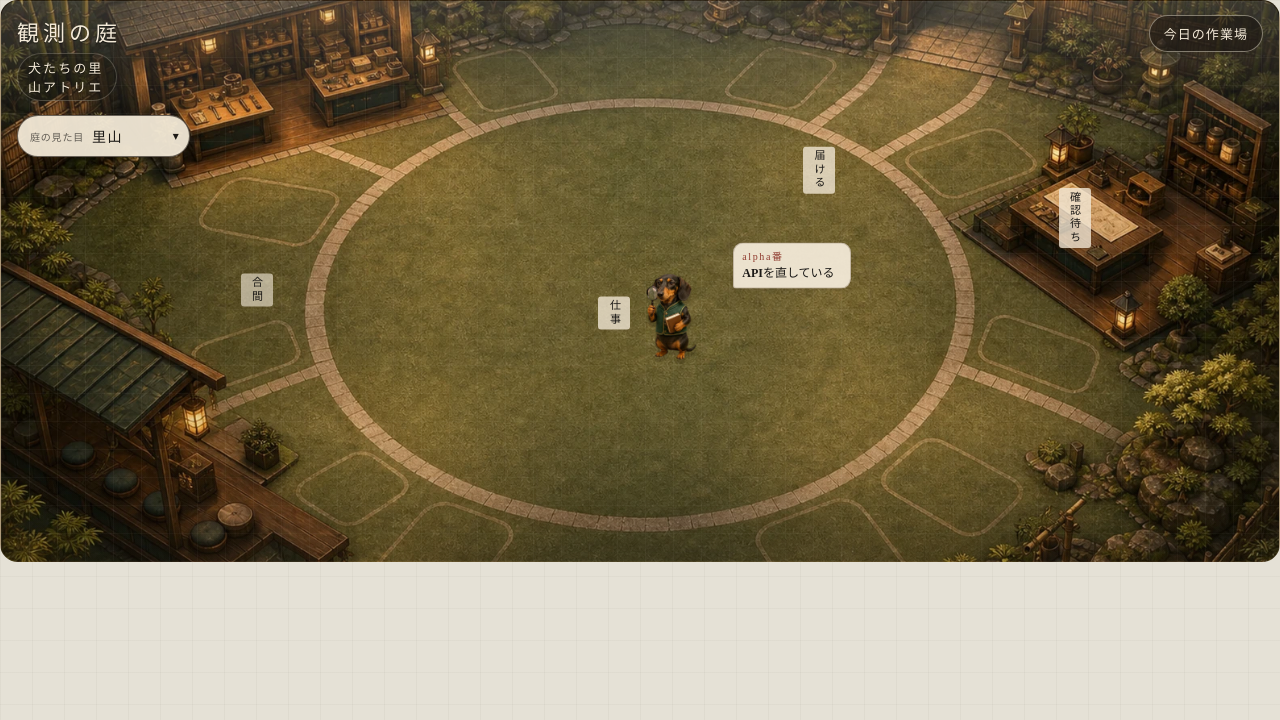
it: ObserverGarden › opens current work in place without turning a tool into an employee
This screenshot has width=1280, height=720.
Click the 7th button. click: click(675, 307)
box: [615, 247, 735, 367]
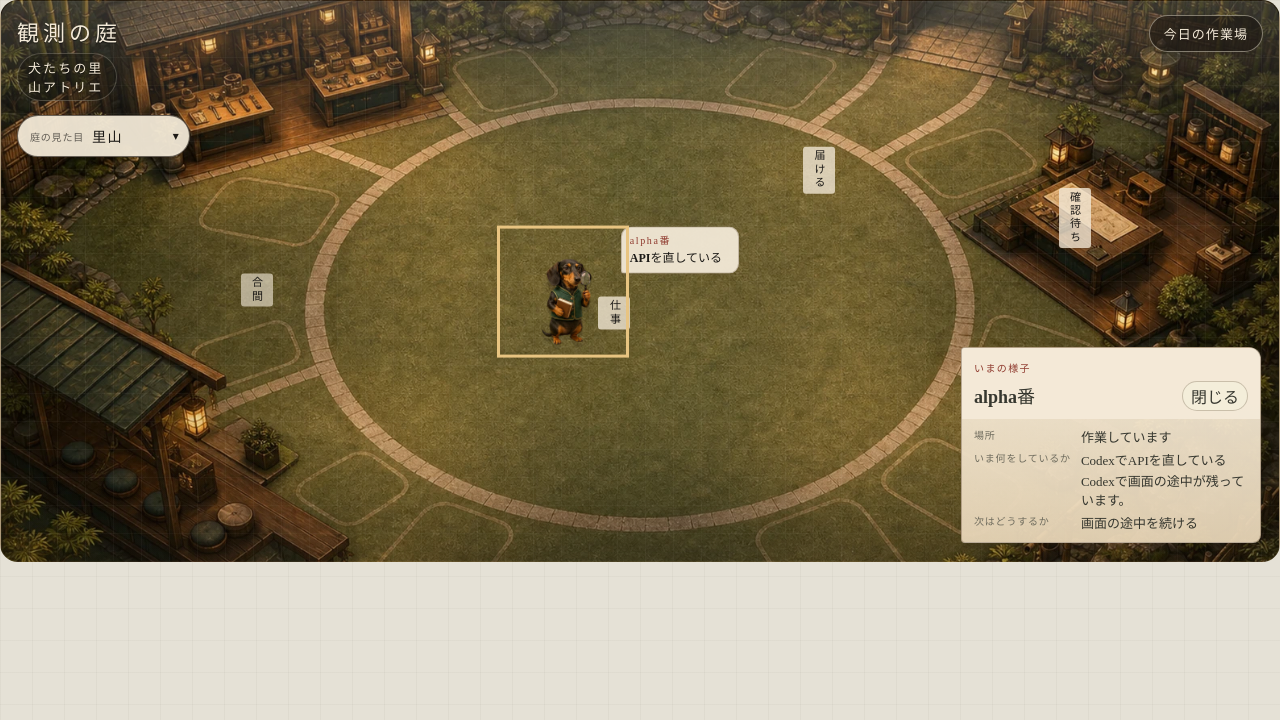
Expected: the element with test id "garden-inspect" shows "alpha番", [974, 387, 1035, 407]
Expected: the element with test id "garden-inspect" shows "APIを直している", [1081, 453, 1226, 468]
Expected: the element with test id "garden-inspect" shows "画面の途中が残っています。", [1081, 474, 1244, 508]
